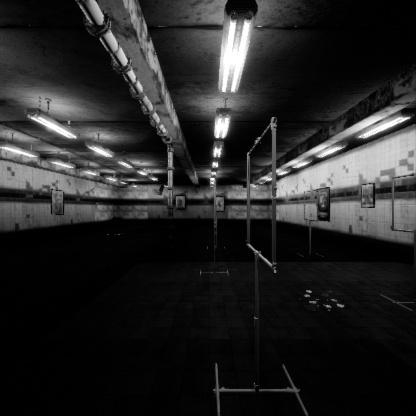gate: (251, 139, 283, 301), (392, 177, 416, 249), (304, 194, 319, 226), (215, 188, 217, 234), (216, 196, 217, 223)
